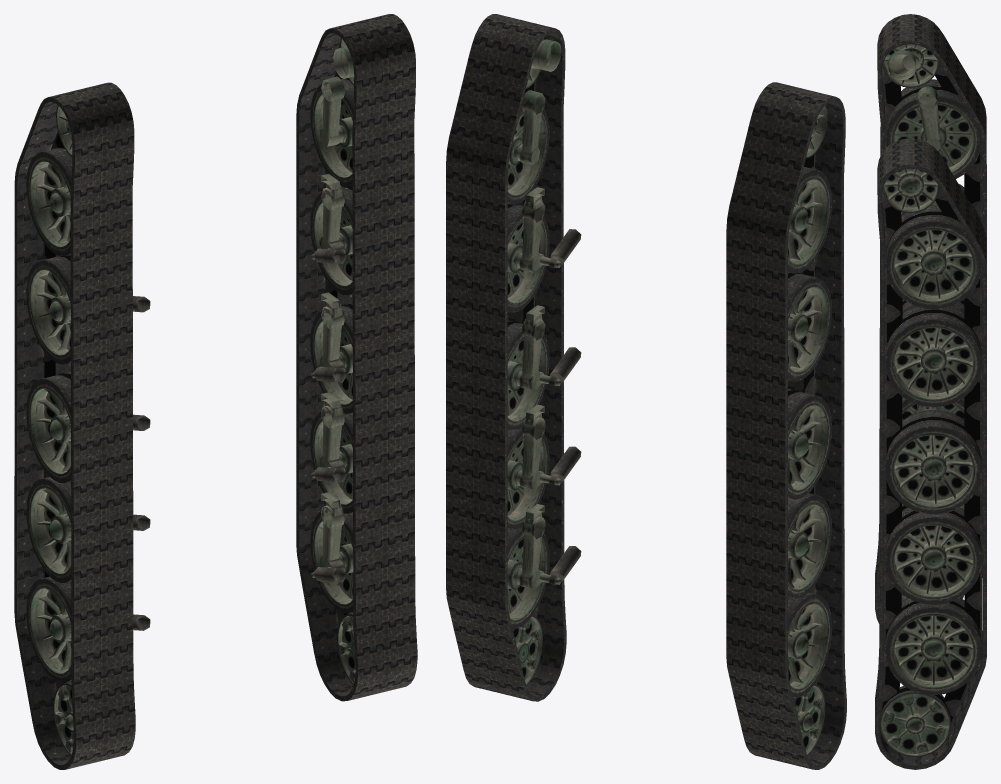
File: Chassis.glb
3 views of the same model, side by side, from view 1: azimuth 30°, elevation 25°; view 2: azimuth 150°, elevation 25°; view 3: azimuth 270°, elevation 25° (orthographic). The views are drawn at different scales.
Visible parts, largest first — view 1: set_1_group_0, set_0_group_0, set_2_group_0, set_3_group_0; view 2: set_0_group_0, set_1_group_0, set_3_group_0, set_2_group_0; view 3: set_3_group_0, set_1_group_0, set_2_group_0, set_0_group_0.
Boxes of the visible parts, x1,y1,x2,y2 form: set_1_group_0: (296, 14, 417, 701); set_0_group_0: (14, 82, 135, 769); set_2_group_0: (26, 105, 150, 755); set_3_group_0: (310, 38, 355, 684); set_0_group_0: (726, 82, 846, 769); set_1_group_0: (446, 14, 566, 701); set_3_group_0: (507, 38, 581, 685); set_2_group_0: (788, 105, 831, 755); set_3_group_0: (879, 168, 981, 757); set_1_group_0: (875, 138, 986, 769); set_2_group_0: (883, 44, 981, 602); set_0_group_0: (875, 14, 986, 623).
Bounding box in the file's own units: 2.87 × 5.39 × 0.9029.
4 materials, 4 textured.
